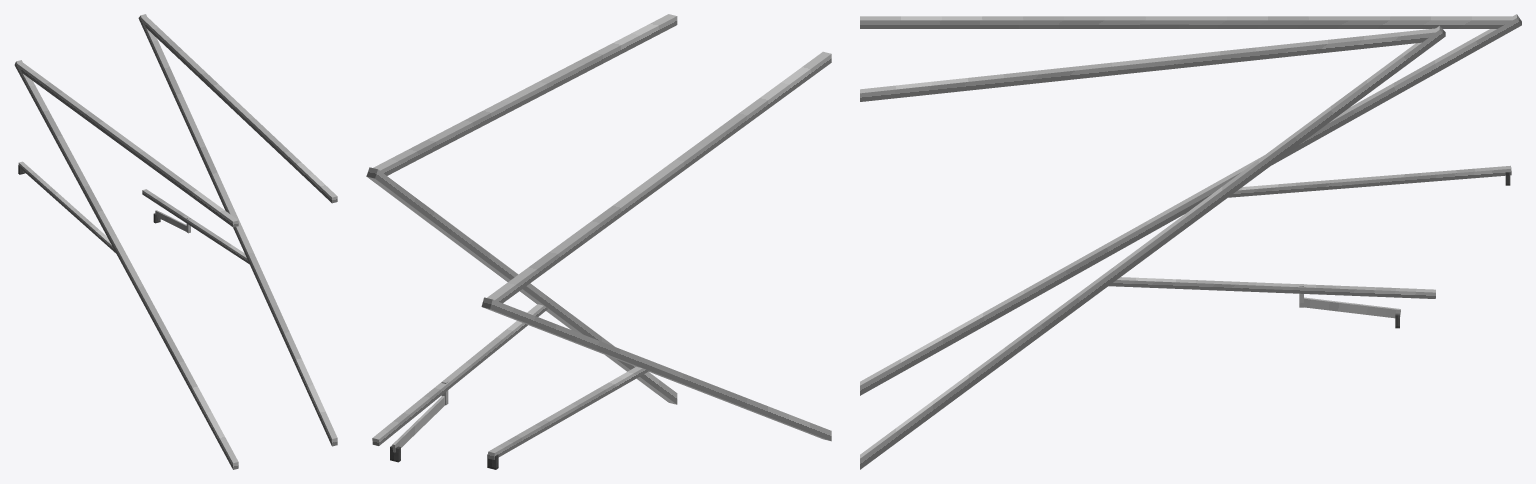
Rendered from cantilever_inner_8px.obj.
The picture shows the model from 3 angles, left to right: view 1: azimuth 30°, elevation 25°; view 2: azimuth 150°, elevation 25°; view 3: azimuth 270°, elevation 25°; orthographic projection. The views are drawn at different scales.
Parts seen in each view (by area): view 1: d9ebb339-8ff3-45f7-9a2b-1616a443332f, 030cf053-f694-457a-b967-949c90fb4a3d, bf148458-a040-44ee-8f19-175423359d7e, b2b37532-355d-4f79-a5a8-12bd50871f70, 48b6f521-80b2-4287-8bc9-b4dc395dda5e, 55030147-62a3-4a83-baf2-b4a416ff3f03; view 2: bf148458-a040-44ee-8f19-175423359d7e, b2b37532-355d-4f79-a5a8-12bd50871f70, d9ebb339-8ff3-45f7-9a2b-1616a443332f, 030cf053-f694-457a-b967-949c90fb4a3d, 48b6f521-80b2-4287-8bc9-b4dc395dda5e, 55030147-62a3-4a83-baf2-b4a416ff3f03, 00bf4bbd-2e79-4747-8437-28940288804e; view 3: 030cf053-f694-457a-b967-949c90fb4a3d, d9ebb339-8ff3-45f7-9a2b-1616a443332f, bf148458-a040-44ee-8f19-175423359d7e, b2b37532-355d-4f79-a5a8-12bd50871f70, 48b6f521-80b2-4287-8bc9-b4dc395dda5e, 55030147-62a3-4a83-baf2-b4a416ff3f03, 00bf4bbd-2e79-4747-8437-28940288804e.
Part boxes in pixels (x1,y1,x2,y2): d9ebb339-8ff3-45f7-9a2b-1616a443332f: (14, 60, 238, 469); 030cf053-f694-457a-b967-949c90fb4a3d: (138, 14, 337, 446); bf148458-a040-44ee-8f19-175423359d7e: (17, 62, 238, 227); b2b37532-355d-4f79-a5a8-12bd50871f70: (142, 17, 337, 203); 48b6f521-80b2-4287-8bc9-b4dc395dda5e: (142, 189, 249, 264); 55030147-62a3-4a83-baf2-b4a416ff3f03: (18, 161, 115, 252); bf148458-a040-44ee-8f19-175423359d7e: (487, 51, 831, 303); b2b37532-355d-4f79-a5a8-12bd50871f70: (373, 14, 677, 175); d9ebb339-8ff3-45f7-9a2b-1616a443332f: (481, 297, 831, 441); 030cf053-f694-457a-b967-949c90fb4a3d: (366, 167, 677, 404); 48b6f521-80b2-4287-8bc9-b4dc395dda5e: (372, 304, 547, 445); 55030147-62a3-4a83-baf2-b4a416ff3f03: (488, 366, 648, 459); 00bf4bbd-2e79-4747-8437-28940288804e: (392, 396, 444, 452); 030cf053-f694-457a-b967-949c90fb4a3d: (860, 25, 1445, 469); d9ebb339-8ff3-45f7-9a2b-1616a443332f: (860, 14, 1521, 395); bf148458-a040-44ee-8f19-175423359d7e: (860, 16, 1512, 28); b2b37532-355d-4f79-a5a8-12bd50871f70: (860, 28, 1435, 101); 48b6f521-80b2-4287-8bc9-b4dc395dda5e: (1108, 277, 1435, 298); 55030147-62a3-4a83-baf2-b4a416ff3f03: (1228, 165, 1511, 197); 00bf4bbd-2e79-4747-8437-28940288804e: (1304, 297, 1400, 318).
Size of the model in its own units: 1.19 by 3.16 by 4.31.
